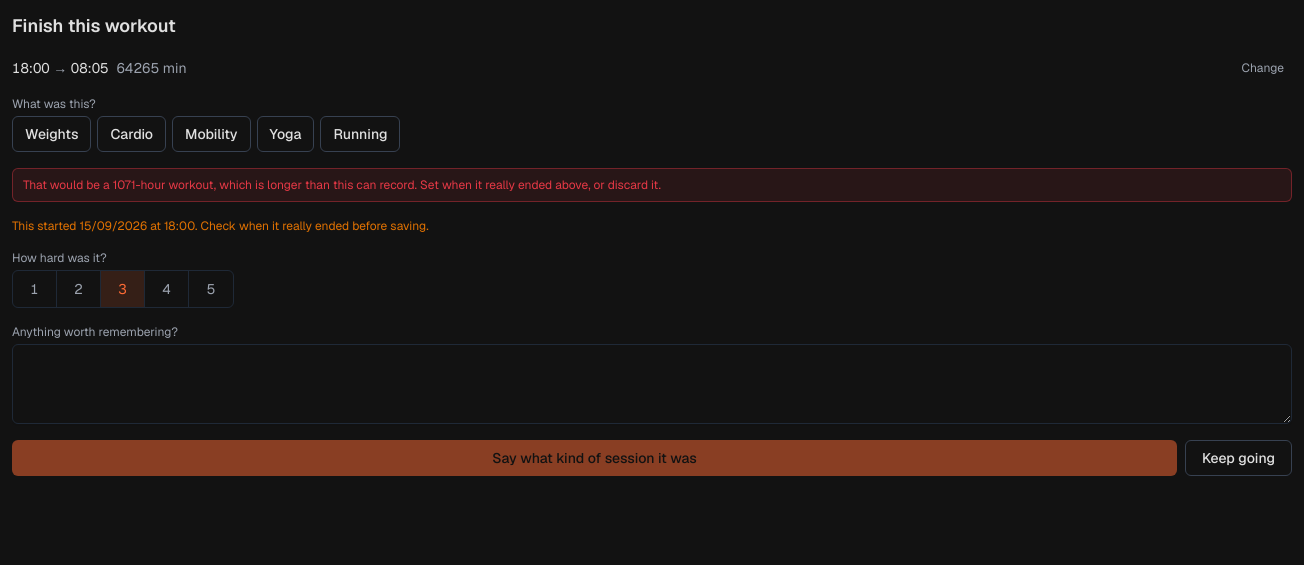
Scenario: a workout with no program behind it › choosing running reveals the distance box on a loose workout too
Expected: the field labelled "how far" is not shown
Click the button "running". click: (360, 134)
box: [320,116,400,152]
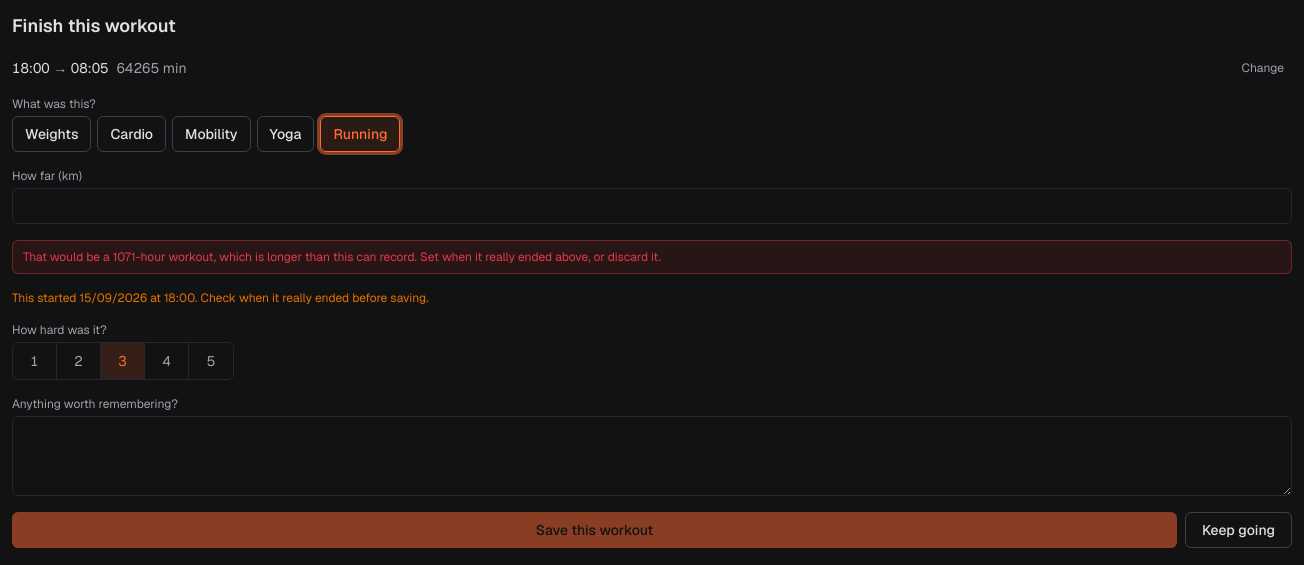
Expected: the number field named "how far, in km" is shown, [12,188,1292,224]
